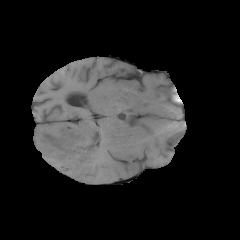glioma: (33, 105, 101, 174)
